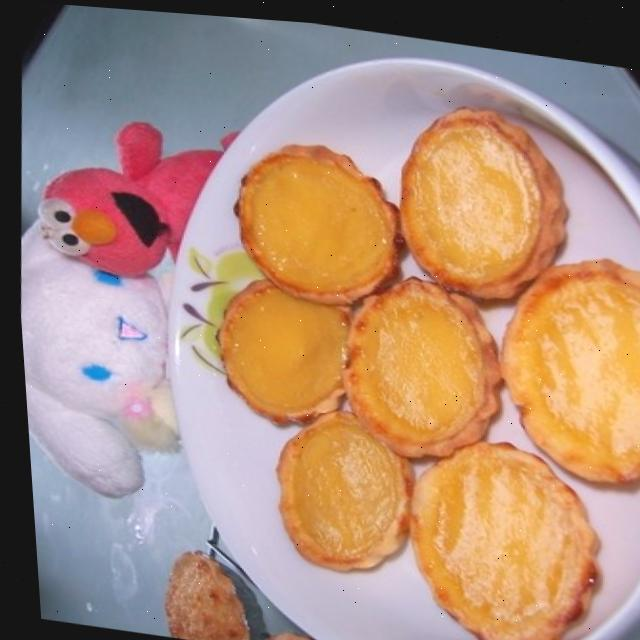炸货点心: (15, 28, 640, 640)
蛋糕甜品: (15, 28, 640, 640)
